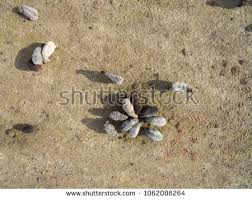sheep: (103, 120, 123, 139), (101, 69, 124, 85), (18, 4, 39, 21), (41, 40, 55, 64), (122, 97, 137, 118), (172, 81, 194, 95), (30, 45, 43, 67), (129, 121, 144, 140), (121, 118, 139, 132), (144, 127, 161, 141), (110, 110, 131, 121), (146, 116, 166, 127)
